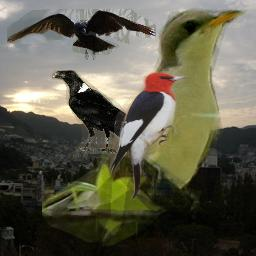Crow: (52, 70, 152, 154), (7, 9, 156, 60)
Cuckoo: (42, 3, 248, 246)
Woodpecker: (109, 71, 188, 200)
